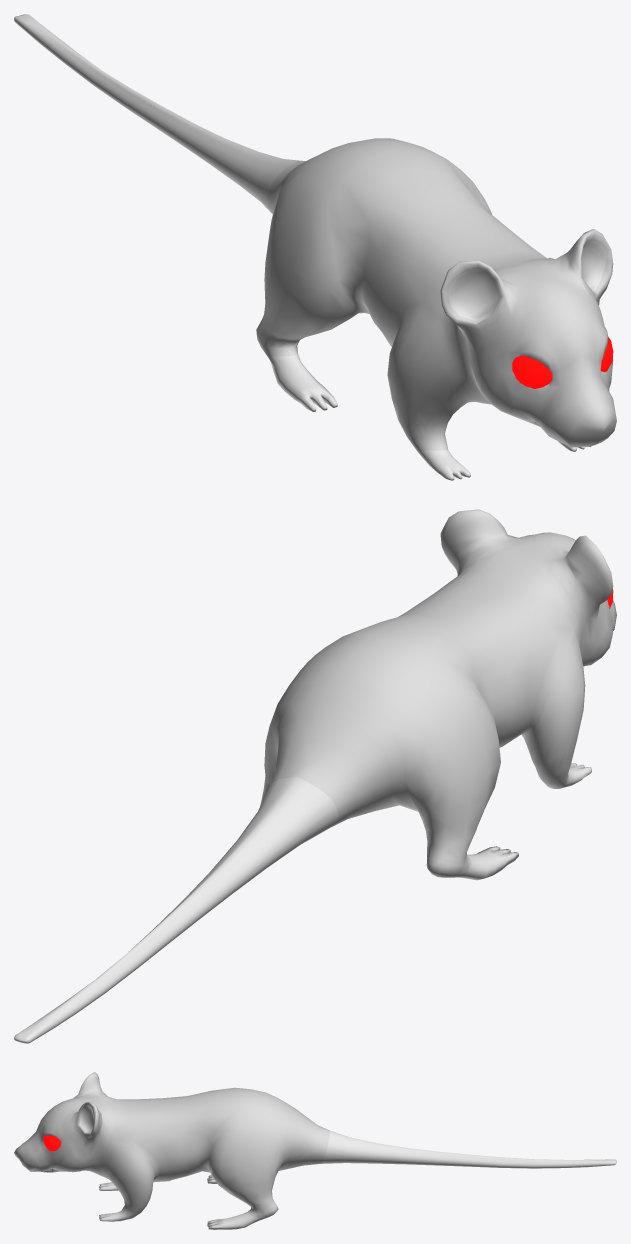
Rendered from Rat 1.fbx.
The picture shows the model from 3 angles, top to bottom: view 1: azimuth 30°, elevation 25°; view 2: azimuth 150°, elevation 25°; view 3: azimuth 270°, elevation 25°; orthographic projection. The views are drawn at different scales.
Parts seen in each view (by area): view 1: Rat; view 2: Rat; view 3: Rat.
Part boxes in pixels (bbox=[...]): Rat: bbox=[14, 14, 616, 480]; Rat: bbox=[14, 509, 616, 1043]; Rat: bbox=[14, 1072, 616, 1229].
Size of the model in its own units: 0.6639 by 0.6848 by 3.23.
